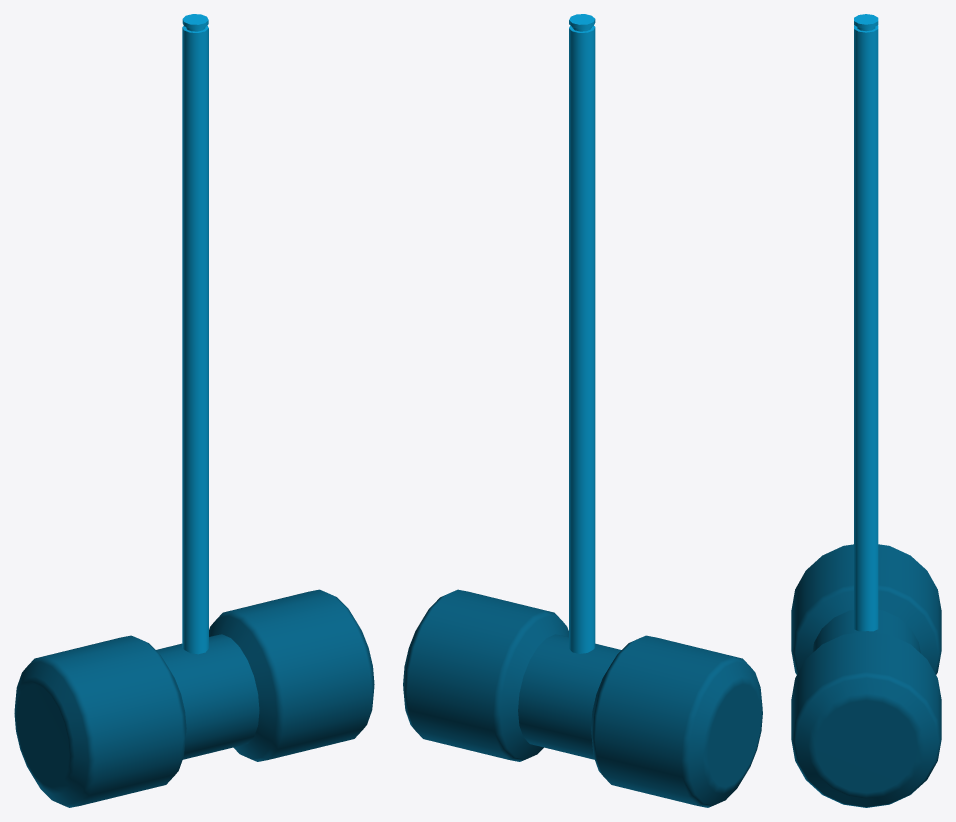
File: Hammer.fbx
3 renders of one model, left to right at view 1: azimuth 30°, elevation 25°; view 2: azimuth 150°, elevation 25°; view 3: azimuth 270°, elevation 25°, orthographic. The views are drawn at different scales.
Parts seen in each view (by area): view 1: Hammer; view 2: Hammer; view 3: Hammer.
Boxes of the visible parts, x1,y1,x2,y2 form: Hammer: [14, 14, 374, 807]; Hammer: [403, 14, 762, 807]; Hammer: [791, 14, 941, 807].
Bounding box in the file's own units: 14.21 × 33.57 × 6.31.
